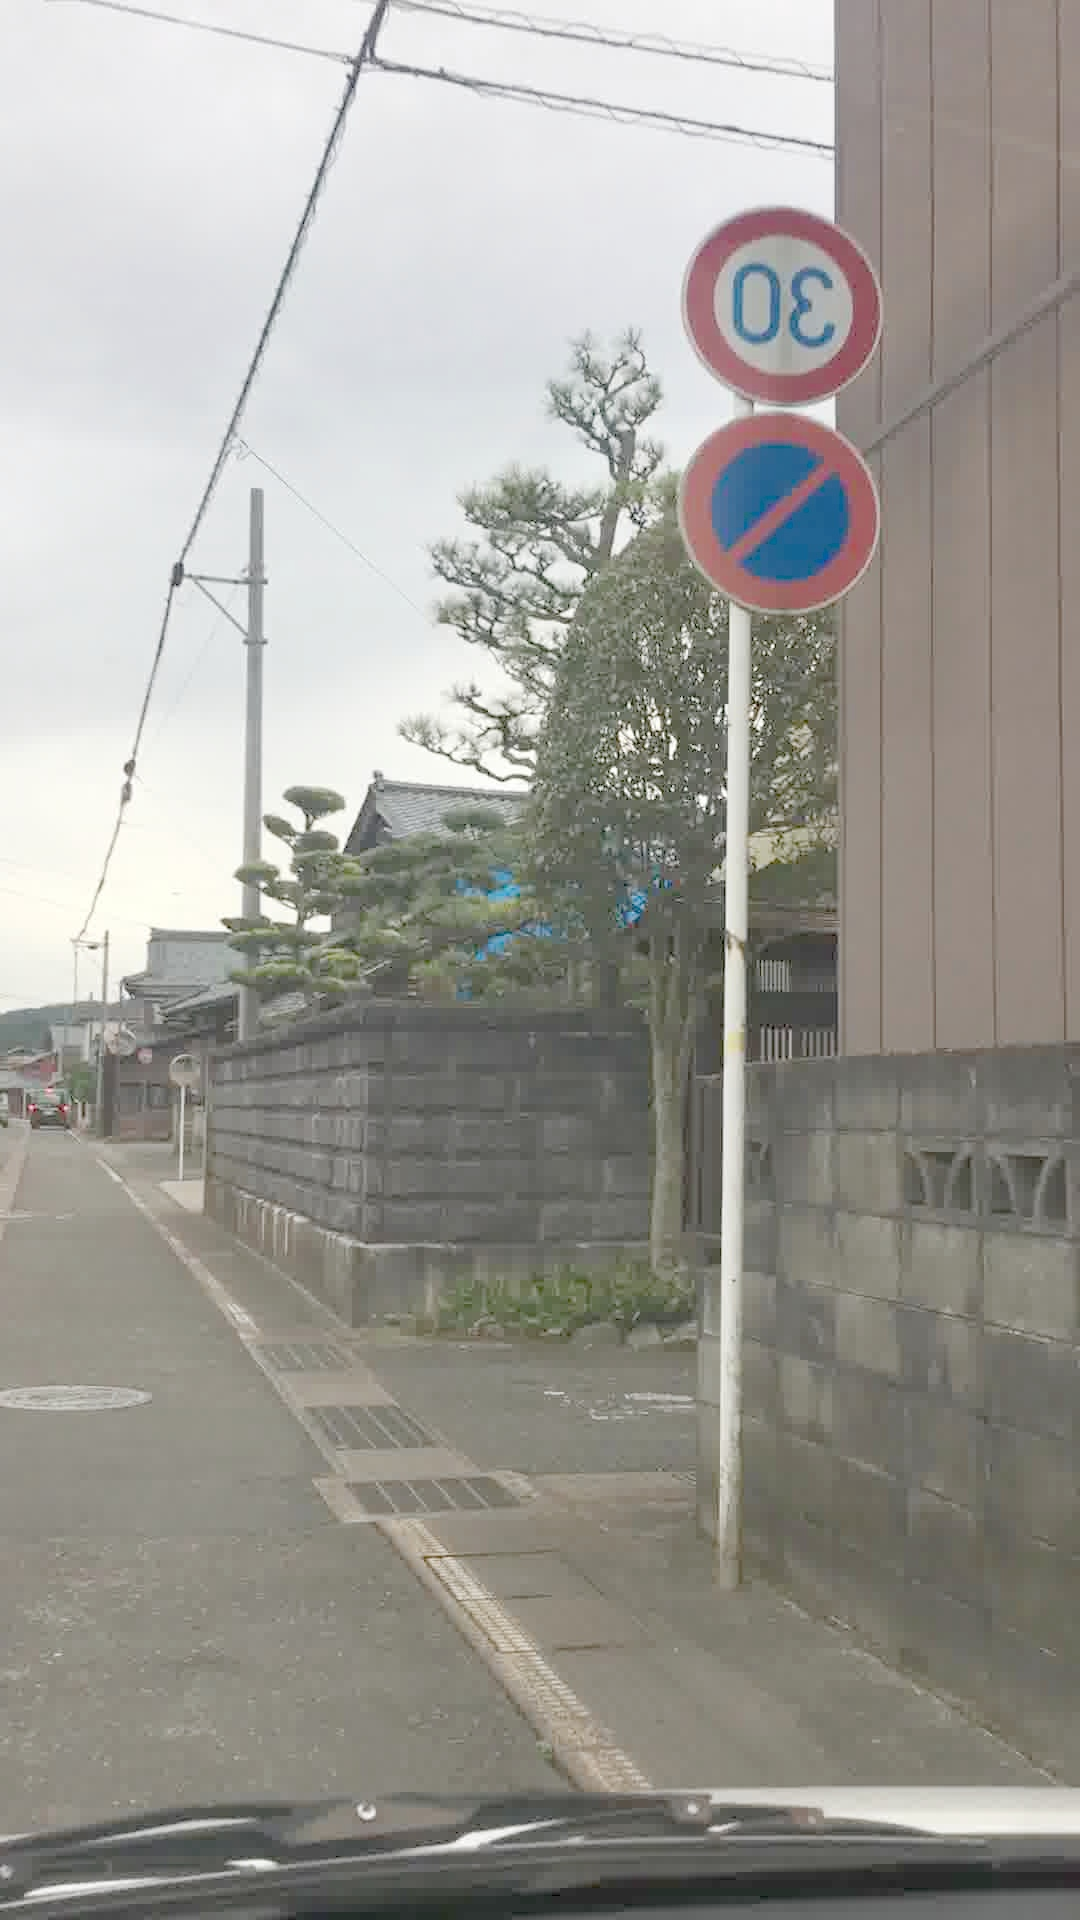Prohibition_sign: (673, 400, 906, 654)
Speed_sign: (688, 190, 891, 414)
